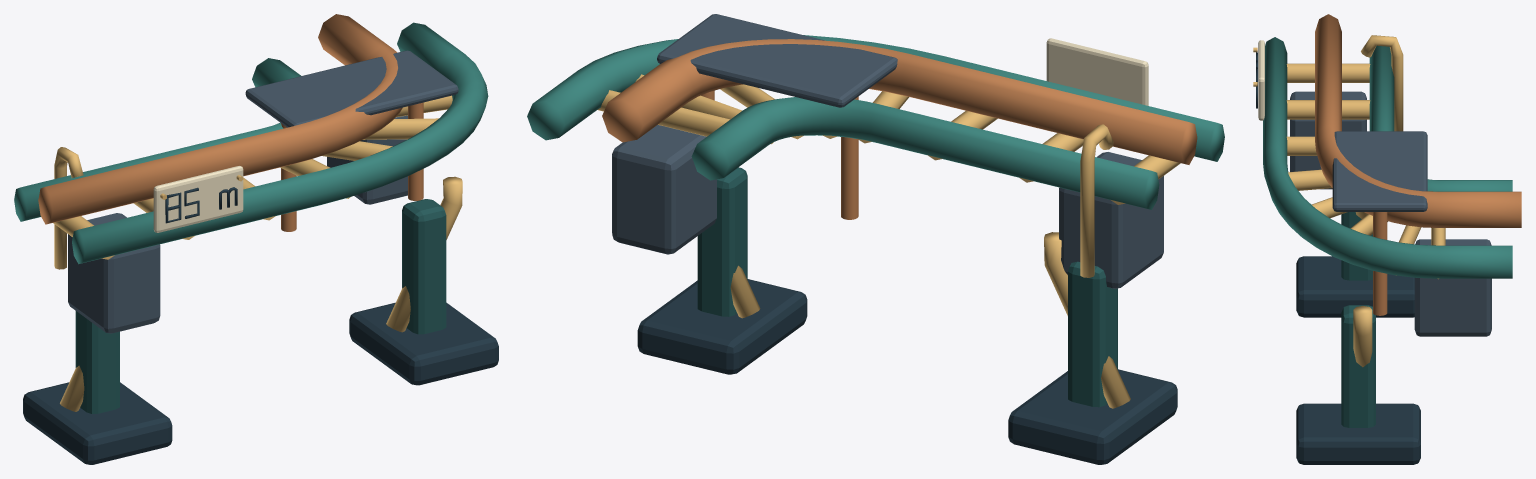
3 renders of one model, left to right at view 1: azimuth 30°, elevation 25°; view 2: azimuth 150°, elevation 25°; view 3: azimuth 270°, elevation 25°, orthographic. The views are drawn at different scales.
Parts seen in each view (by area): view 1: PR024 workshop surfaces; view 2: PR024 workshop surfaces; view 3: PR024 workshop surfaces.
Part boxes in pixels (bbox=[...]): PR024 workshop surfaces: bbox=[14, 14, 498, 464]; PR024 workshop surfaces: bbox=[527, 14, 1224, 464]; PR024 workshop surfaces: bbox=[1253, 14, 1521, 464].
Size of the model in its own units: 1.16 by 0.65 by 0.6.
